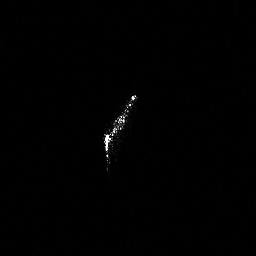ship: (99, 90, 141, 174)
